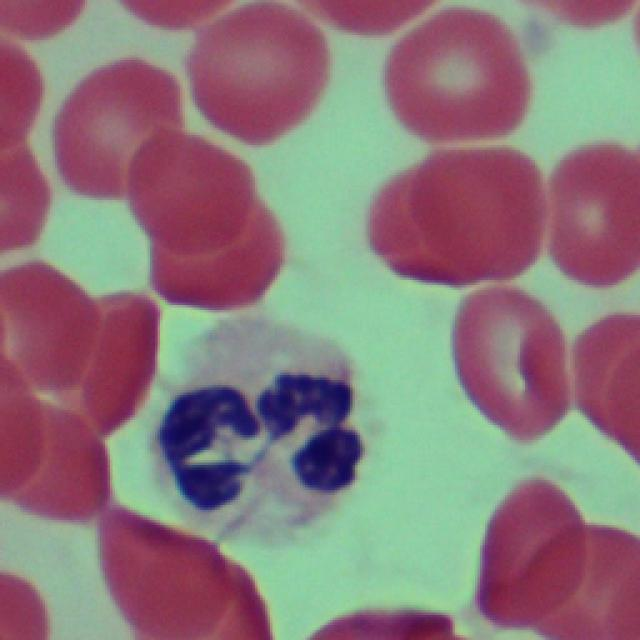RBC: (475, 461, 640, 635), (0, 260, 152, 437), (362, 134, 550, 277), (134, 137, 272, 317), (176, 0, 320, 148), (378, 5, 524, 148), (446, 279, 571, 446), (101, 518, 268, 639), (52, 49, 174, 208), (530, 135, 638, 290), (565, 301, 640, 474), (0, 401, 110, 515), (106, 0, 230, 35), (0, 0, 94, 46)
WBC: (168, 330, 359, 520)
